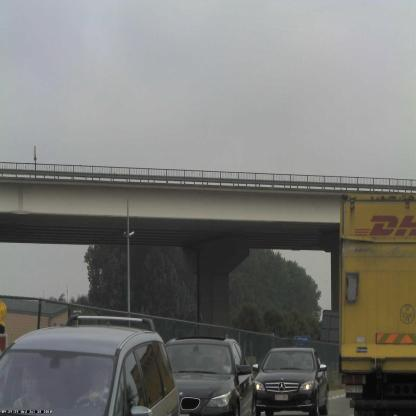other: (335, 182, 415, 378)
